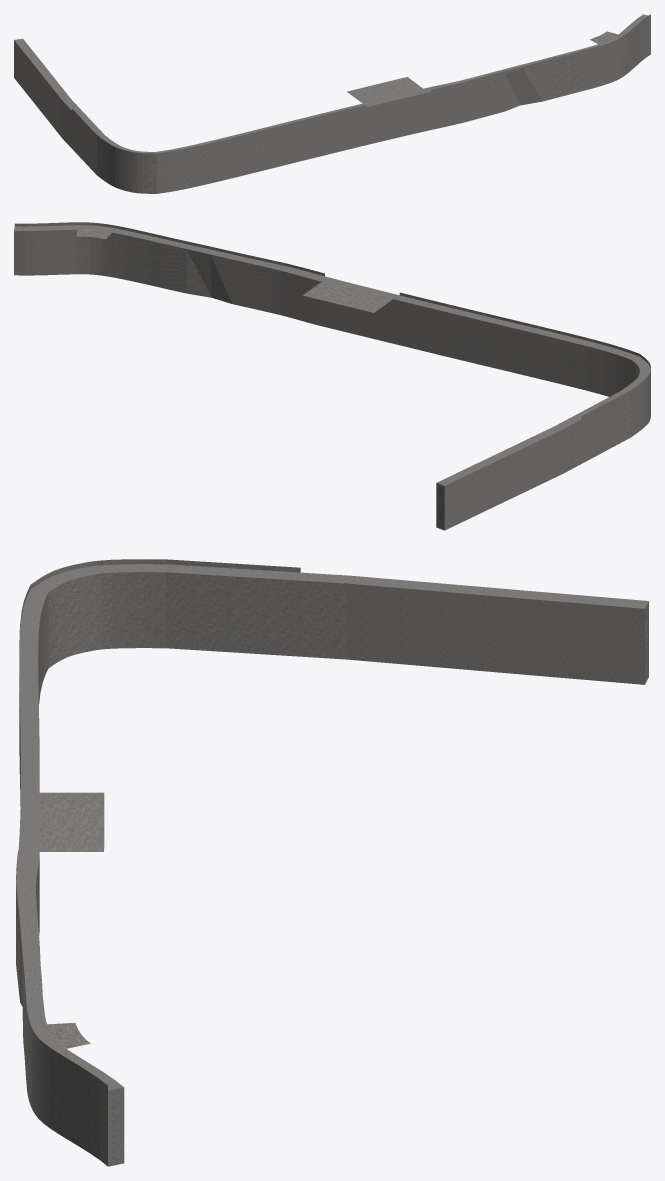
The model's file is road03.fbx.
3 views of the same model, one above another, from view 1: azimuth 30°, elevation 25°; view 2: azimuth 150°, elevation 25°; view 3: azimuth 270°, elevation 25° (orthographic). The views are drawn at different scales.
Parts seen in each view (by area): view 1: Road; view 2: Road; view 3: Road.
Boxes of the visible parts, bbox=[...] form: Road: bbox=[14, 14, 650, 193]; Road: bbox=[14, 222, 650, 530]; Road: bbox=[16, 559, 648, 1166].
Size of the model in its own units: 52788 by 3820 by 26818.
